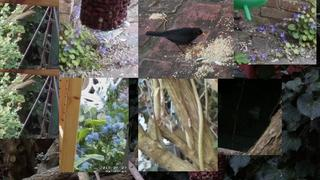blackbird: (145, 27, 207, 55)
